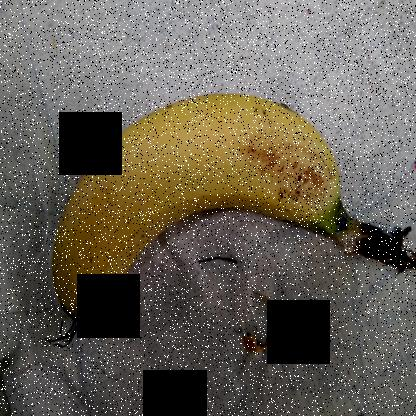freshripe: (45, 88, 346, 332)
